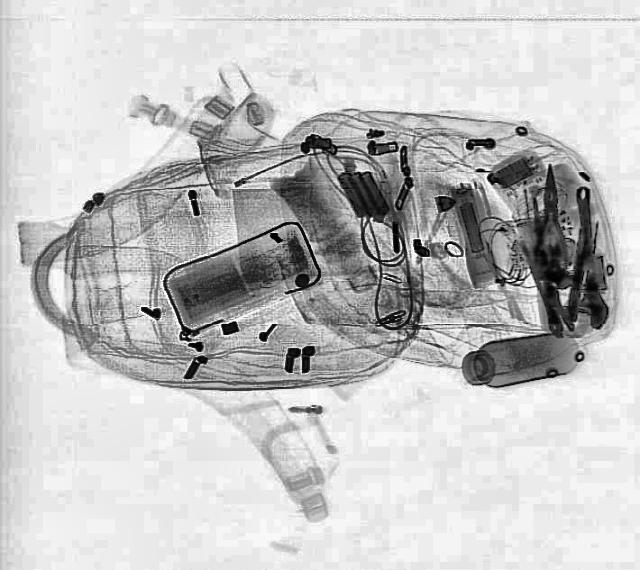Pliers: (528, 164, 566, 266)
Wrench: (574, 184, 612, 330)
